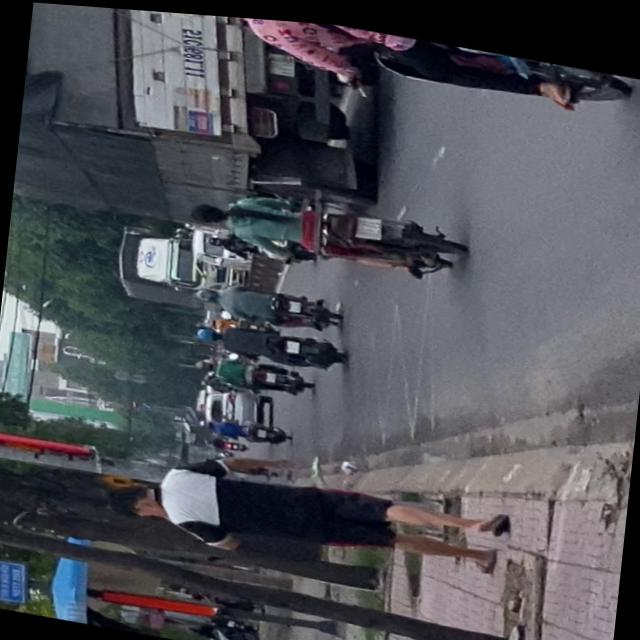helmet: (156, 9, 238, 19)
licenseplate: (150, 9, 640, 124), (181, 173, 466, 282)
motorcyclist: (186, 195, 226, 223)
nohelmet: (354, 209, 379, 233)
